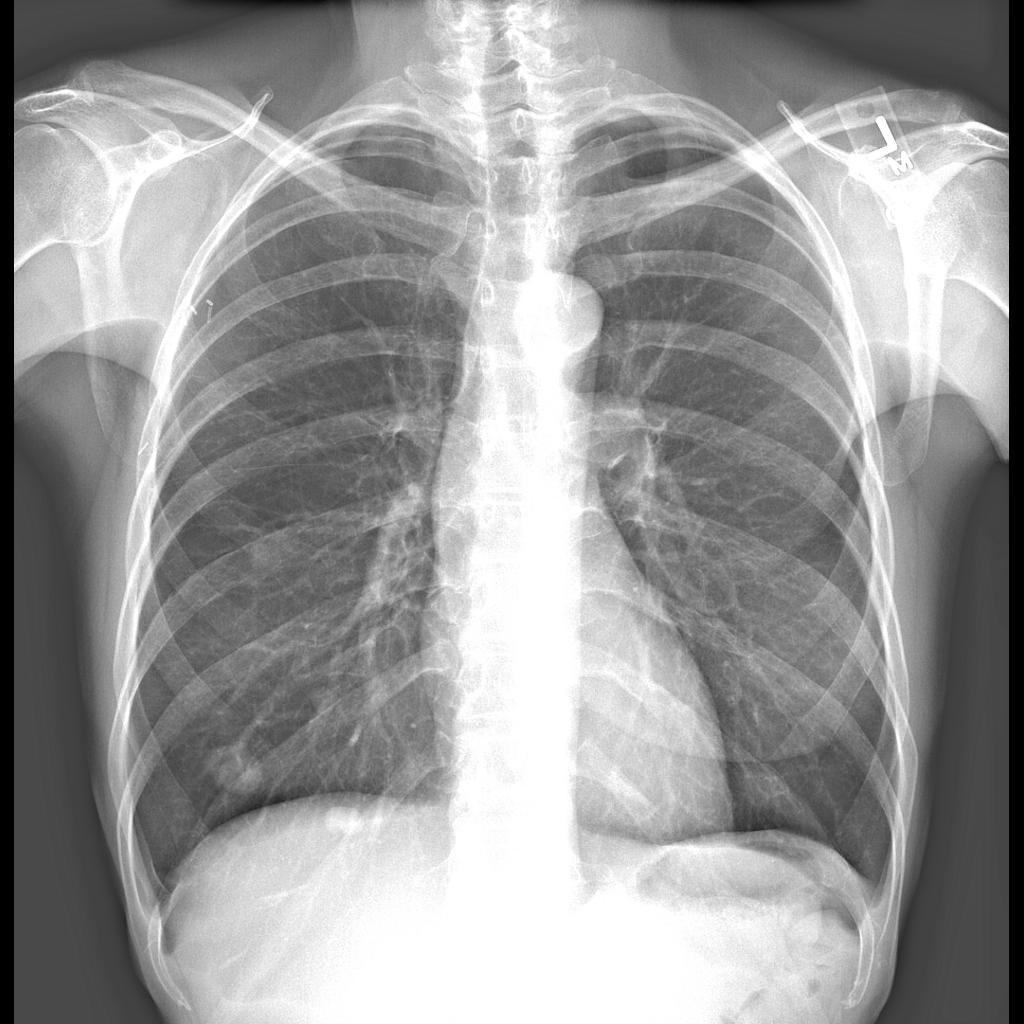Nodule: (200, 737, 273, 805), (239, 526, 297, 586)
